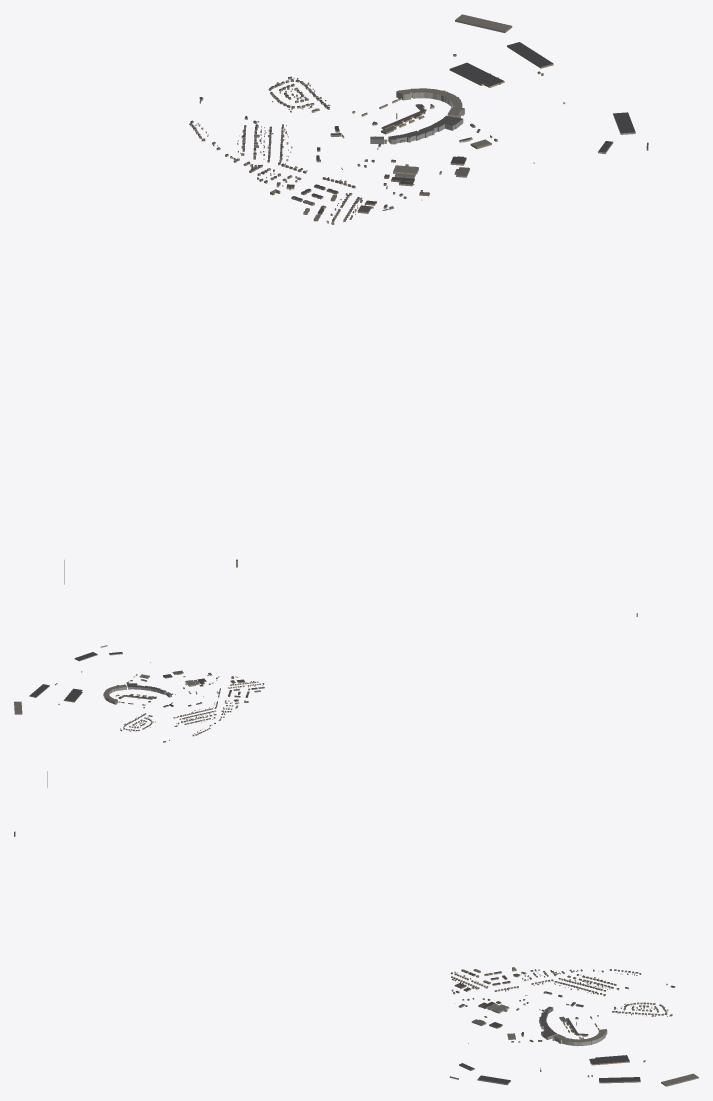
Rendered from scenery.glb.
3 views of the same model, one above another, from view 1: azimuth 30°, elevation 25°; view 2: azimuth 150°, elevation 25°; view 3: azimuth 270°, elevation 25° (orthographic). The views are drawn at different scales.
Parts seen in each view (by area): view 1: chunk_15_14, chunk_15_15, chunk_16_13, chunk_13_15; view 2: chunk_13_14, chunk_15_14, chunk_15_15, chunk_13_15, chunk_16_13, chunk_14_13, chunk_13_16; view 3: chunk_15_14, chunk_13_14, chunk_16_13.
Boxes of the visible parts, x1,y1,x2,y2 form: chunk_15_14: (379, 88, 464, 129); chunk_15_15: (388, 115, 497, 165); chunk_16_13: (453, 14, 553, 68); chunk_13_15: (257, 155, 355, 205); chunk_13_14: (173, 704, 231, 728); chunk_15_14: (103, 684, 152, 704); chunk_15_15: (126, 674, 172, 694); chunk_13_15: (196, 687, 249, 710); chunk_16_13: (14, 684, 59, 714); chunk_14_13: (120, 714, 155, 731); chunk_13_16: (230, 676, 264, 692); chunk_15_14: (552, 1018, 607, 1046); chunk_13_14: (550, 969, 613, 997); chunk_16_13: (599, 1060, 698, 1086).
Size of the model in its own units: 4318 by 128 by 4201.
